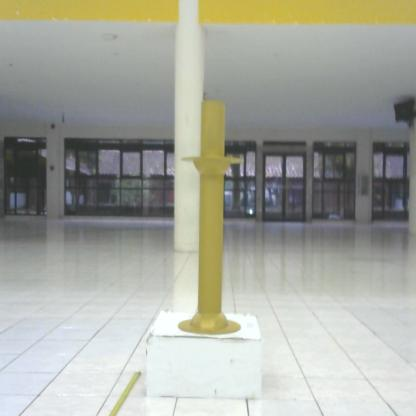pole: (170, 91, 254, 343)
